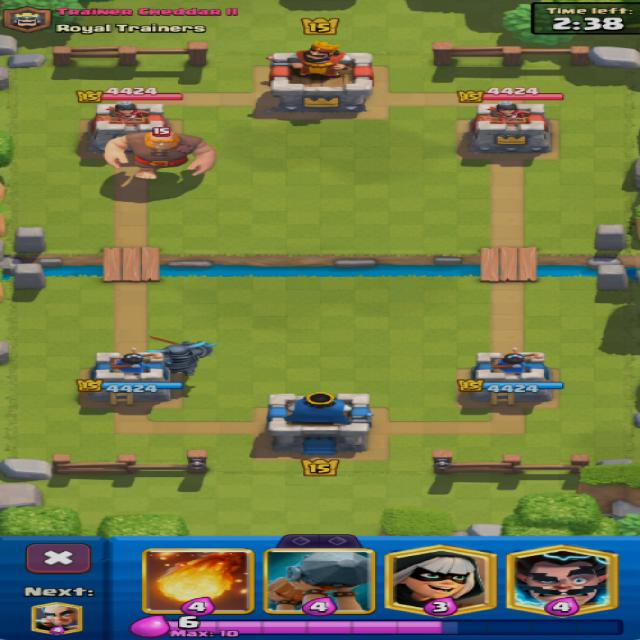Enemy-Giant: (106, 128, 214, 179)
Enemy-KingTower: (269, 41, 372, 114)
Enemy-PrincessTower: (470, 100, 549, 154), (87, 101, 168, 153)
Player-KingTower: (266, 392, 372, 456)
Player-PEKKA: (147, 336, 214, 376)
Player-PrincessTower: (78, 349, 182, 404), (460, 349, 562, 404)
